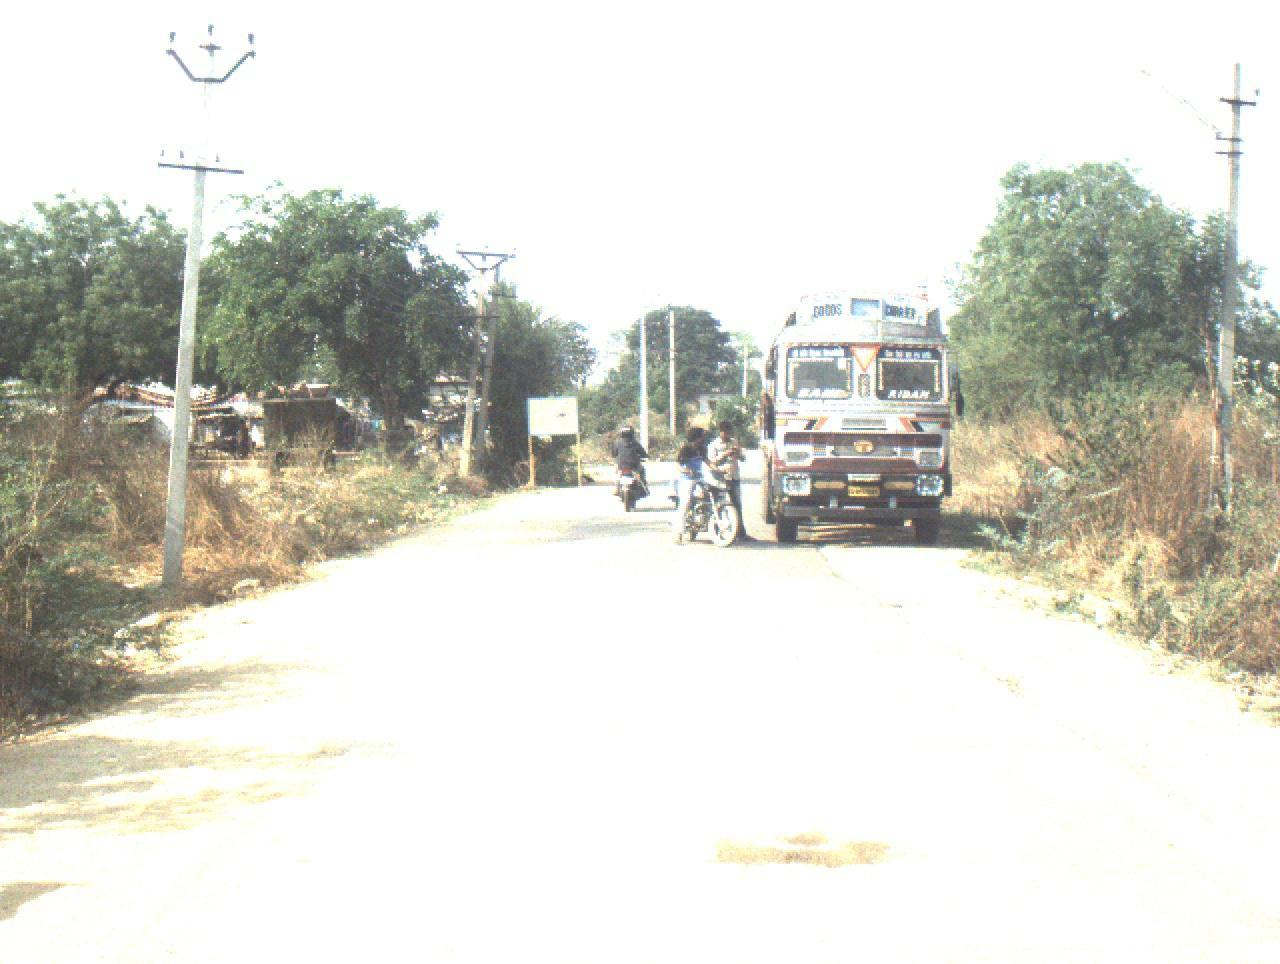off: (0, 16, 887, 964)
